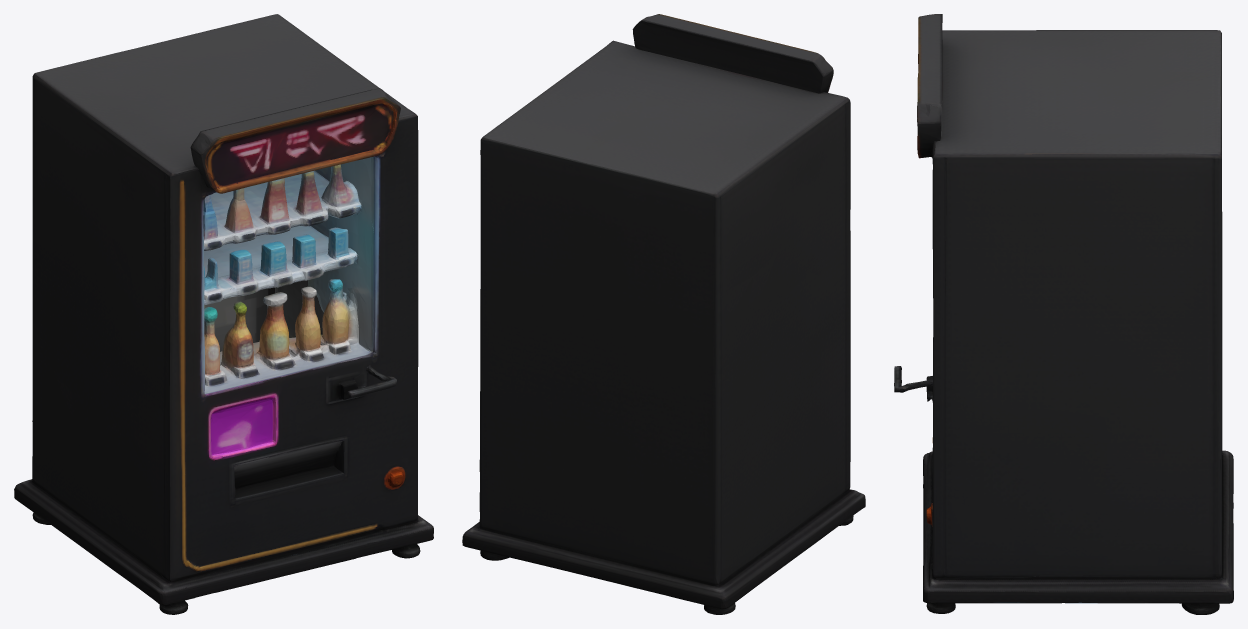
The model's file is kiosk.fbx.
The picture shows the model from 3 angles, left to right: view 1: azimuth 30°, elevation 25°; view 2: azimuth 150°, elevation 25°; view 3: azimuth 270°, elevation 25°; orthographic projection. The views are drawn at different scales.
Parts seen in each view (by area): view 1: geometry_0; view 2: geometry_0; view 3: geometry_0.
Boxes of the visible parts, bbox=[...] form: geometry_0: bbox=[14, 14, 433, 614]; geometry_0: bbox=[462, 14, 865, 614]; geometry_0: bbox=[894, 14, 1233, 614].
Size of the model in its own units: 0.611 by 1 by 0.628.
1 material, 1 textured.
